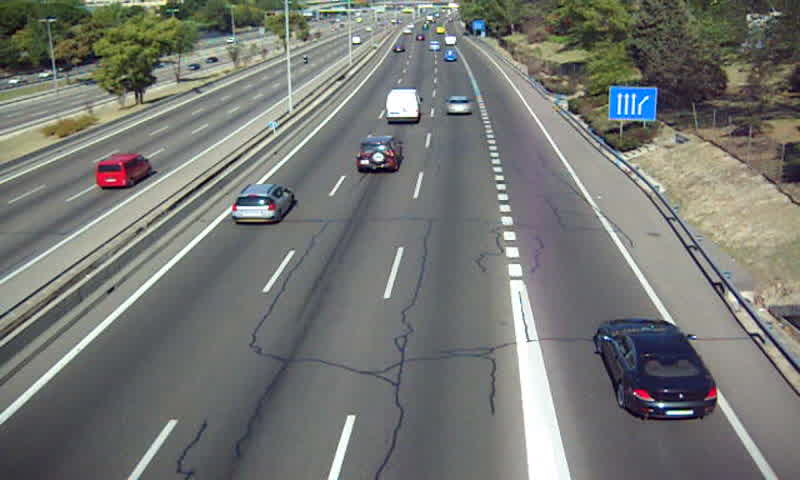car: (599, 318, 718, 417), (232, 183, 292, 225), (358, 134, 404, 174), (445, 96, 472, 114)
van: (385, 89, 422, 123)
